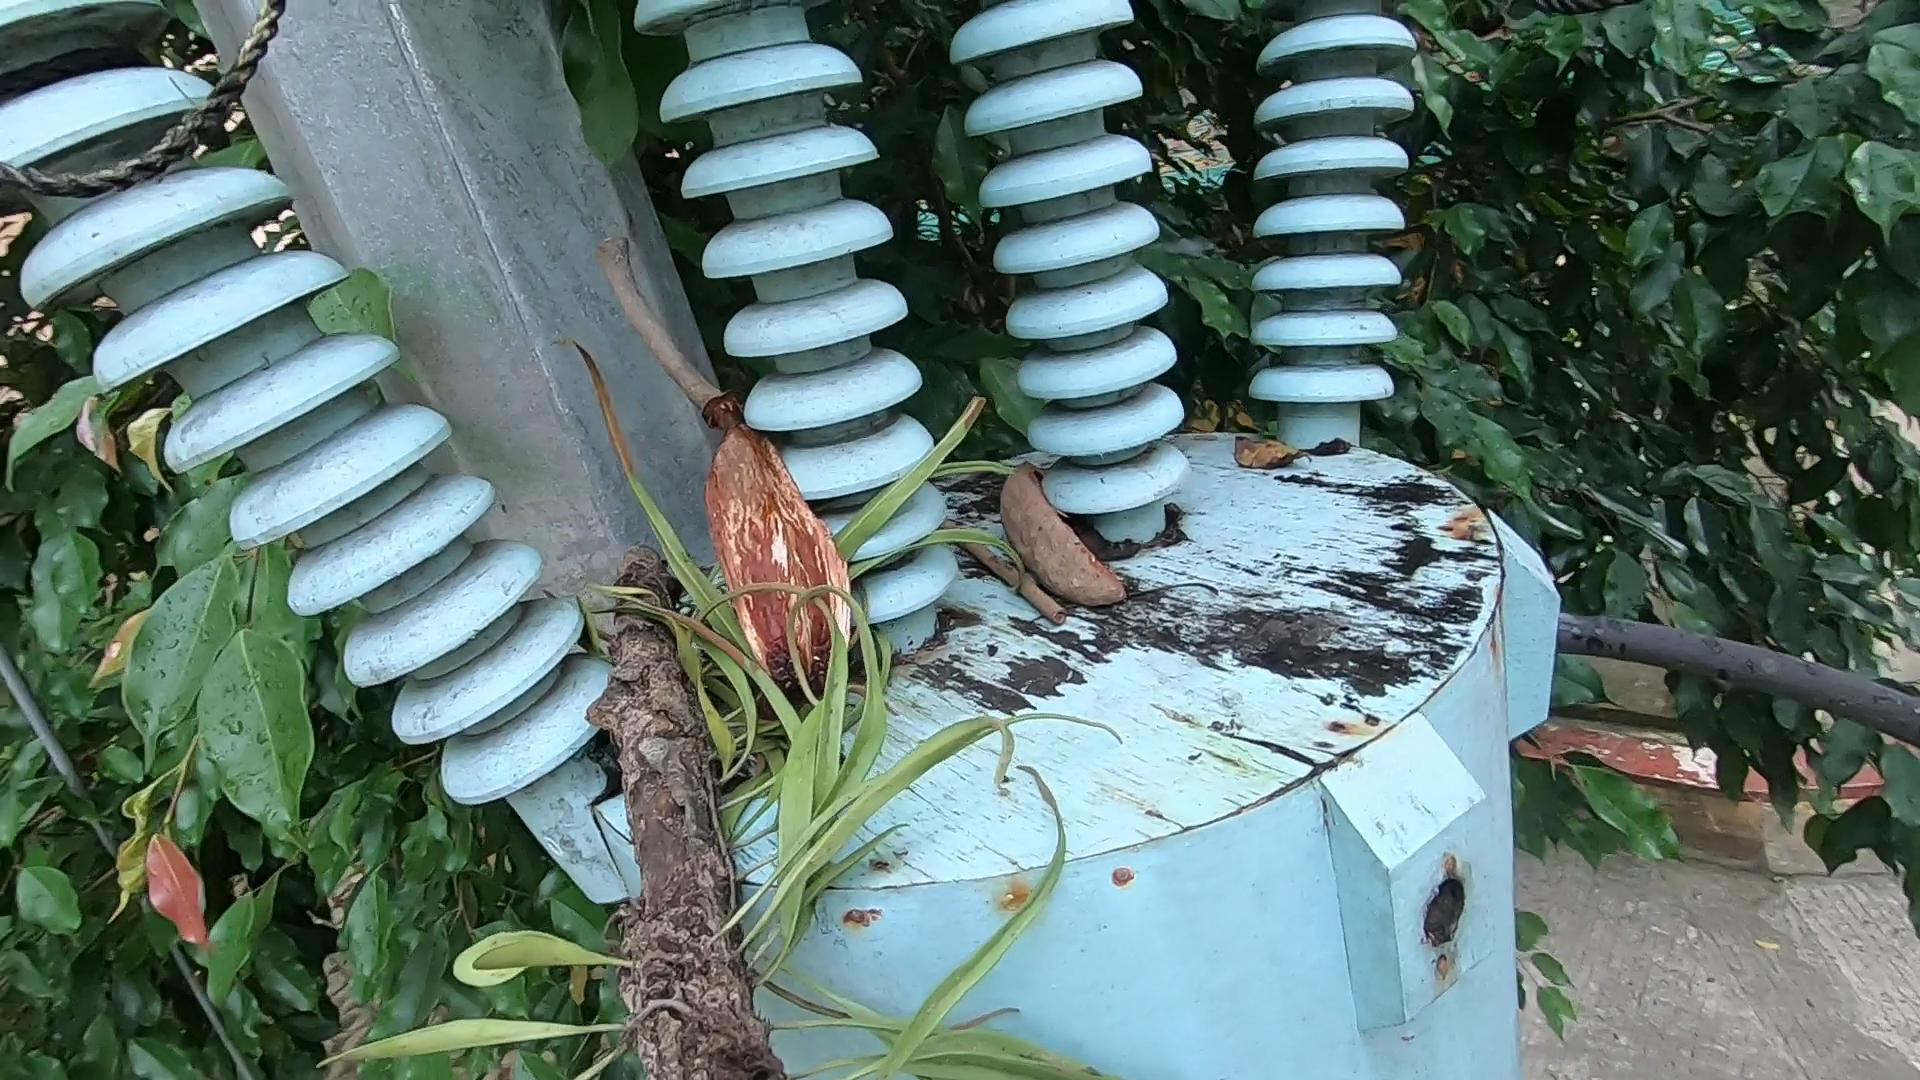branch with leaves: (531, 542, 1112, 1080)
leaf: (1228, 433, 1349, 516)
mahogany fruit: (651, 444, 901, 709), (997, 430, 1143, 646)
tree branch: (572, 228, 746, 433), (931, 506, 1081, 651)
